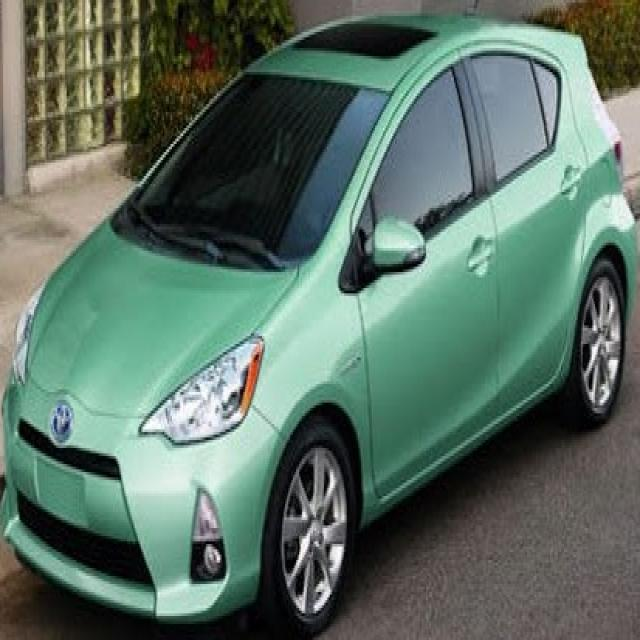green: (4, 15, 636, 636)
